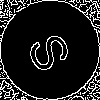S: (25, 25, 81, 76)
